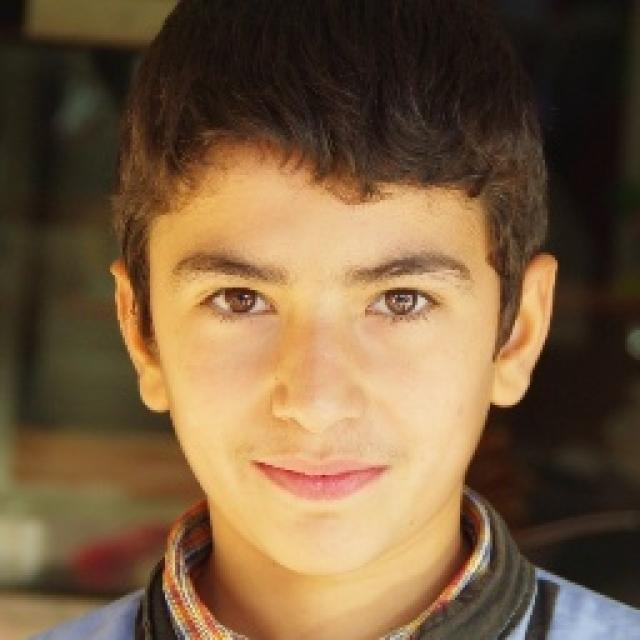earlobe: (490, 252, 559, 408), (110, 258, 171, 414)
